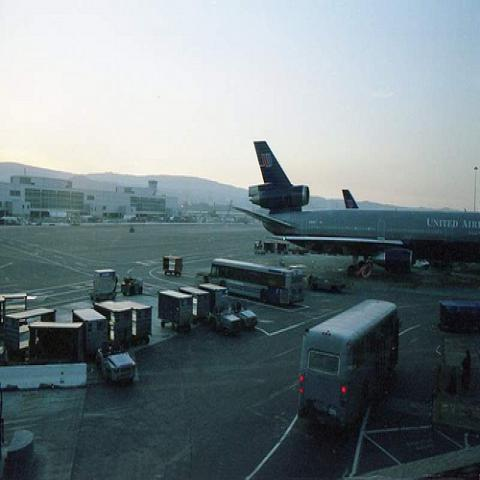bus: (292, 294, 403, 432), (210, 257, 304, 306)
truck: (96, 339, 136, 384), (439, 300, 479, 334), (223, 296, 260, 327), (208, 305, 243, 337), (88, 268, 118, 302), (120, 278, 143, 296)
